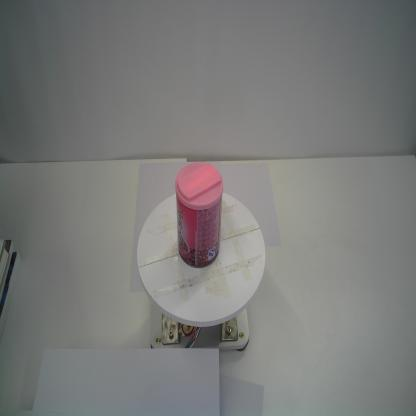Canned Food: (173, 160, 226, 271)
